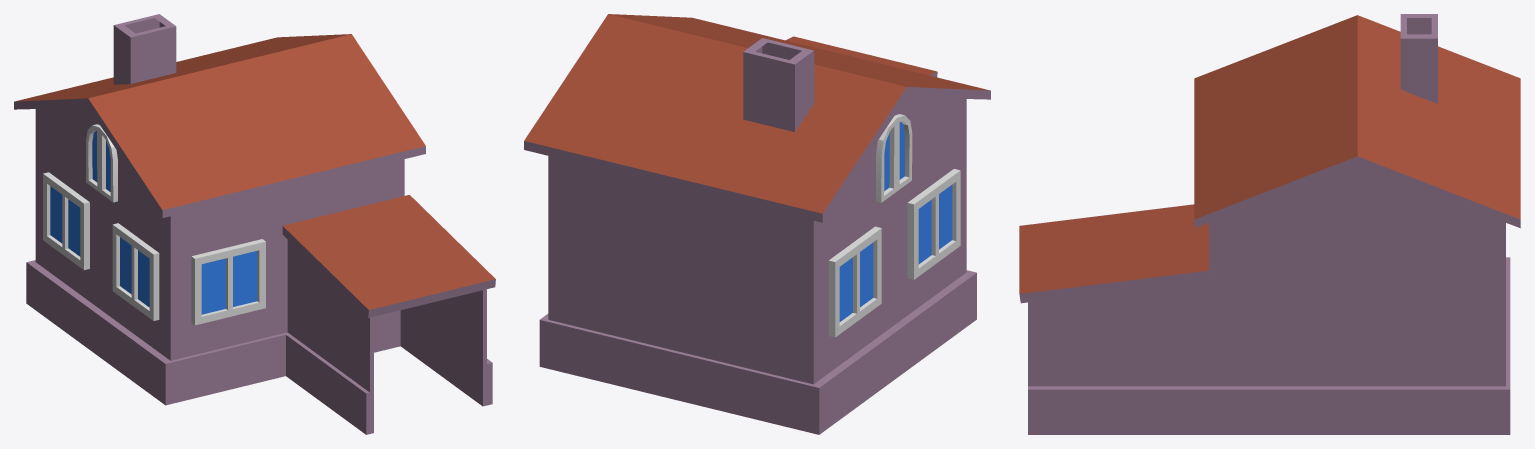
File: HouseThree.fbx
The picture shows the model from 3 angles, left to right: view 1: azimuth 30°, elevation 25°; view 2: azimuth 150°, elevation 25°; view 3: azimuth 270°, elevation 25°; orthographic projection. The views are drawn at different scales.
Visible parts, largest first — view 1: Cube.008; view 2: Cube.008; view 3: Cube.008.
Part boxes in pixels (x1,y1,x2,y2): Cube.008: (14,14,495,434); Cube.008: (524,14,990,434); Cube.008: (1019,14,1520,434).
Bounding box in the file's own units: 71.23 × 74.75 × 107.
